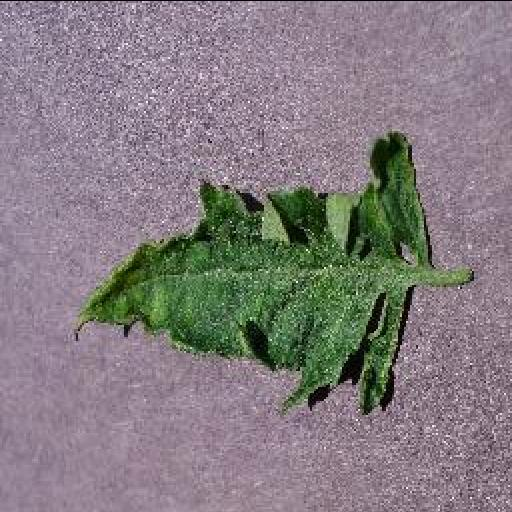Mosaic Virus: (70, 127, 436, 417)
